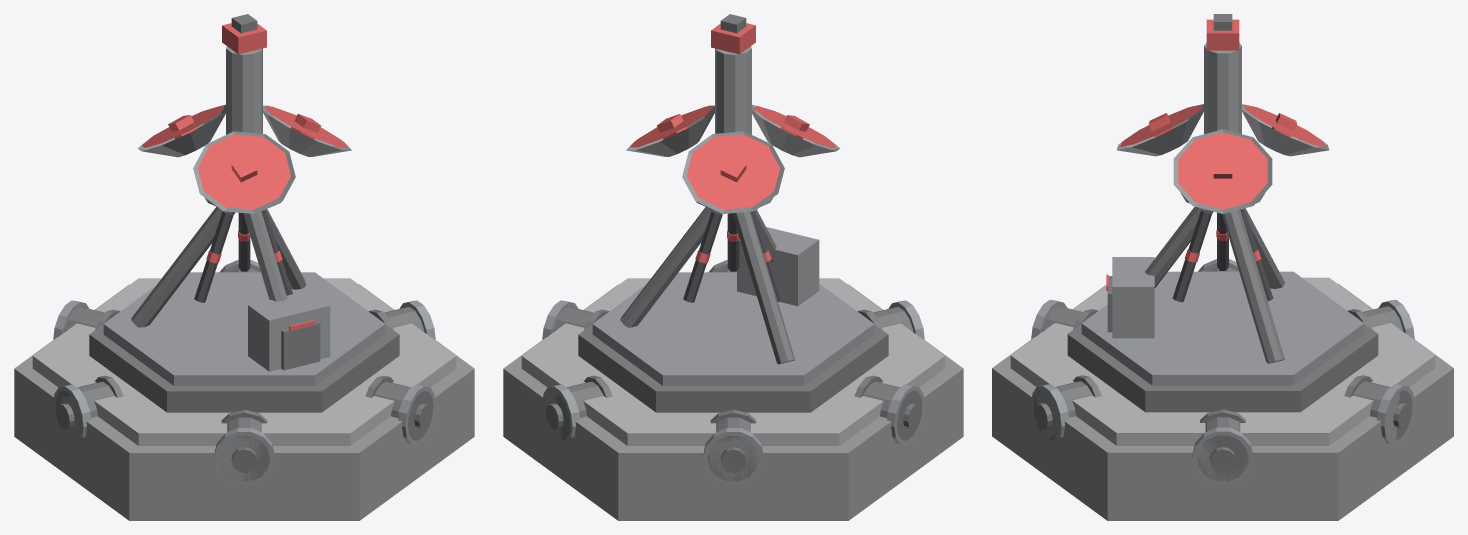
The model's file is control_projector_s3_100.glb.
3 views of the same model, side by side, from view 1: azimuth 30°, elevation 25°; view 2: azimuth 150°, elevation 25°; view 3: azimuth 270°, elevation 25° (orthographic).
Parts seen in each view (by area): view 1: CP_Base; view 2: CP_Base; view 3: CP_Base.
Part boxes in pixels (x1,y1,x2,y2): CP_Base: (14,14,474,520); CP_Base: (503,14,963,520); CP_Base: (992,14,1453,520).
Bounding box in the file's own units: 1.78 × 1.96 × 1.96.
